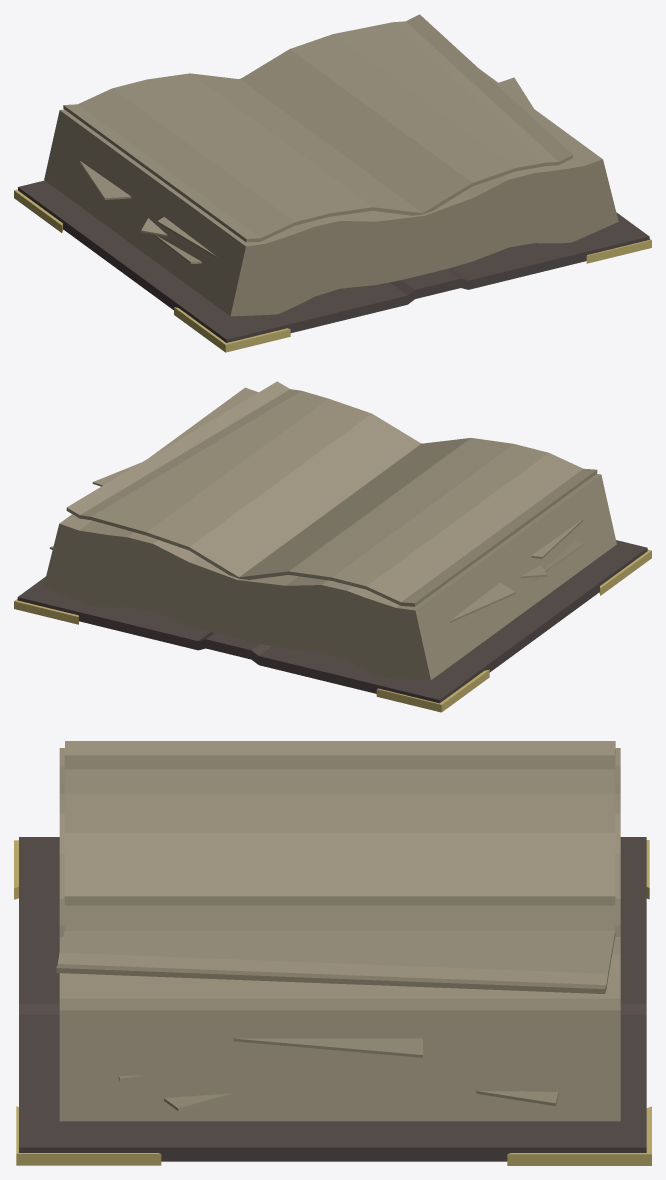
Rendered from SM_Book3_Open.fbx.
The picture shows the model from 3 angles, top to bottom: view 1: azimuth 30°, elevation 25°; view 2: azimuth 150°, elevation 25°; view 3: azimuth 270°, elevation 25°; orthographic projection. The views are drawn at different scales.
Parts seen in each view (by area): view 1: SM_Book3_Open; view 2: SM_Book3_Open; view 3: SM_Book3_Open.
Boxes of the visible parts, x1=… form: SM_Book3_Open: x1=14, y1=14, x2=651, y2=352; SM_Book3_Open: x1=14, y1=381, x2=651, y2=712; SM_Book3_Open: x1=14, y1=741, x2=651, y2=1165.
Bounding box in the file's own units: 87.66 × 19.45 × 75.21.
